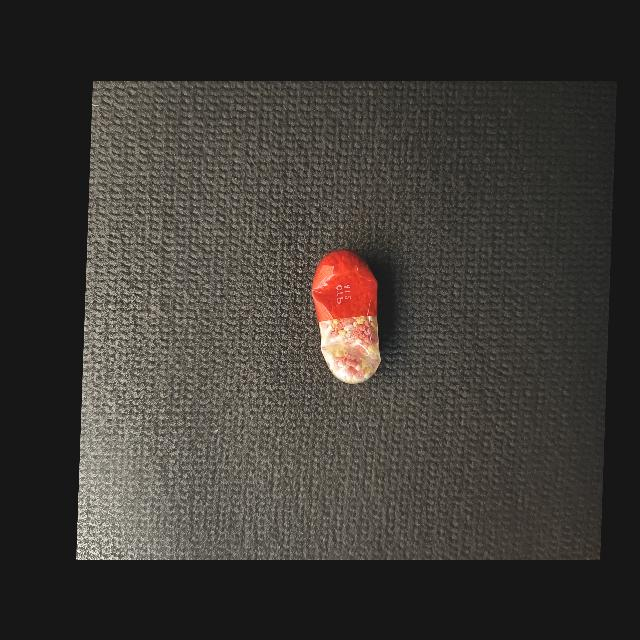Defective Capsule: (311, 249, 381, 383)
